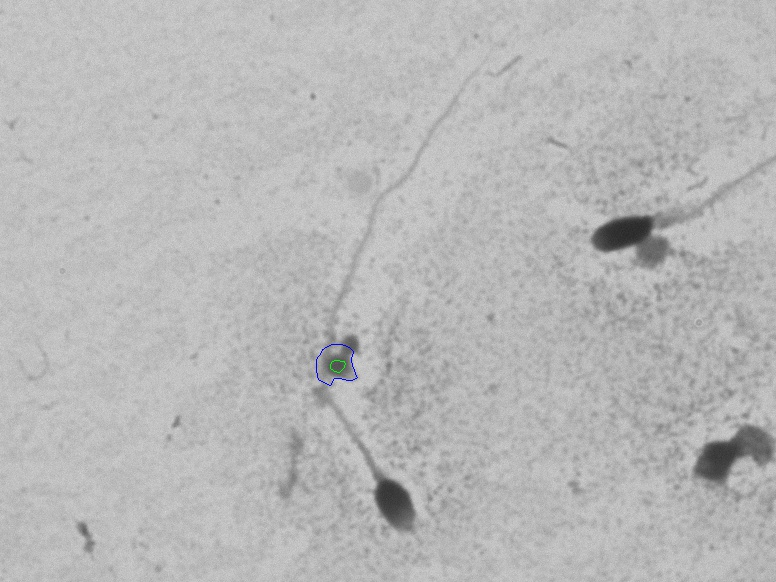Abnormal: (569, 145, 751, 307)
Normal: (235, 47, 518, 558)
